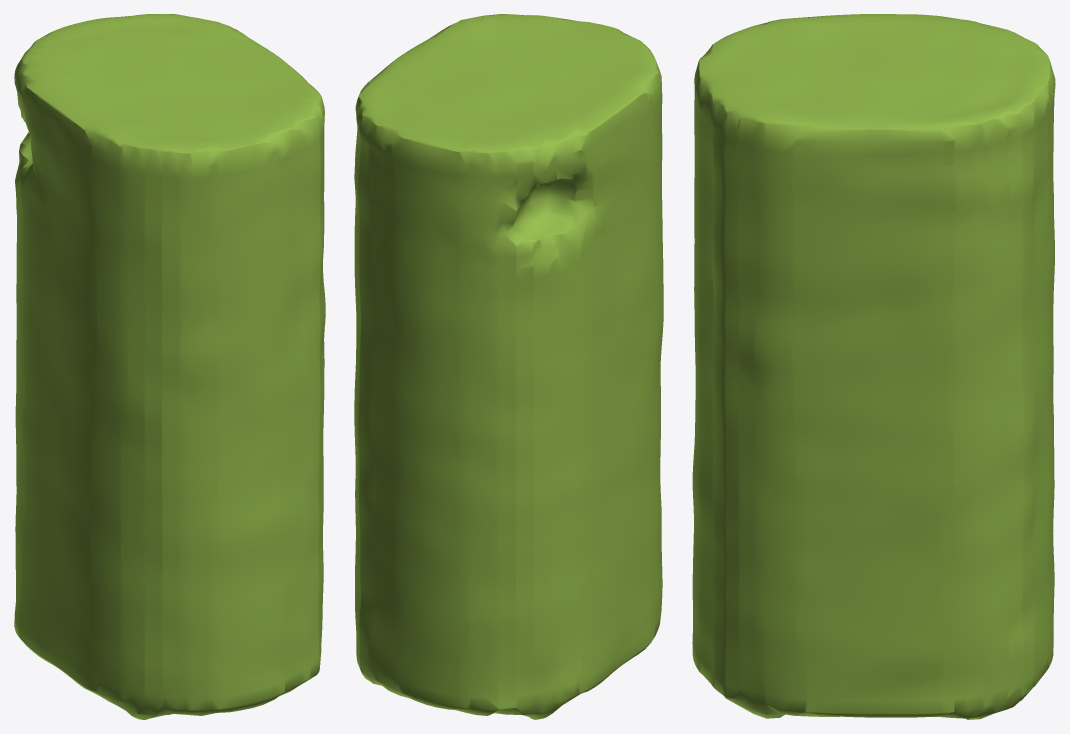
File: cabinet_3_5.obj
3 renders of one model, left to right at view 1: azimuth 30°, elevation 25°; view 2: azimuth 150°, elevation 25°; view 3: azimuth 270°, elevation 25°, orthographic. The views are drawn at different scales.
Size of the model in its own units: 0.325 by 0.7922 by 0.4234.
